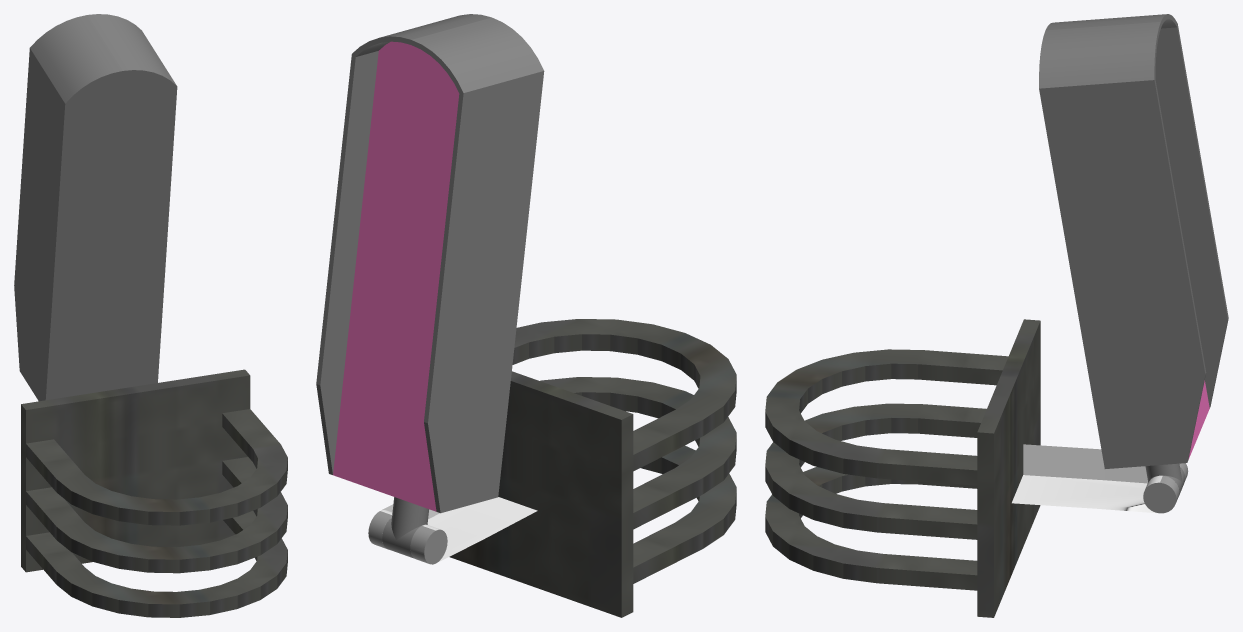
The model's file is sensor-emissor.glb.
3 renders of one model, left to right at view 1: azimuth 30°, elevation 25°; view 2: azimuth 150°, elevation 25°; view 3: azimuth 270°, elevation 25°, orthographic. The views are drawn at different scales.
Parts seen in each view (by area): view 1: Componente_3_1, Componente_1_1, Al_a1, Al_a3, Al_a2; view 2: Componente_3_1, Componente_1_1, Al_a1, Al_a3, Al_a2, Componente_4_1; view 3: Componente_3_1, Al_a1, Componente_1_1, Al_a3, Al_a2, Componente_4_1.
Part boxes in pixels (left/top/right/bottom): Componente_3_1: left=14, top=14, right=177, bottom=401; Componente_1_1: left=21, top=369, right=250, bottom=572; Al_a1: left=26, top=409, right=287, bottom=525; Al_a3: left=26, top=457, right=287, bottom=573; Al_a2: left=26, top=511, right=287, bottom=617; Componente_3_1: left=316, top=14, right=544, bottom=558; Componente_1_1: left=449, top=371, right=633, bottom=617; Al_a1: left=512, top=319, right=736, bottom=471; Al_a3: left=540, top=377, right=736, bottom=529; Al_a2: left=633, top=445, right=736, bottom=583; Componente_4_1: left=368, top=497, right=537, bottom=564; Componente_3_1: left=1039, top=14, right=1228, bottom=495; Al_a1: left=765, top=349, right=1008, bottom=485; Componente_1_1: left=977, top=319, right=1040, bottom=617; Al_a3: left=765, top=403, right=986, bottom=539; Al_a2: left=765, top=467, right=977, bottom=590; Componente_4_1: left=1012, top=444, right=1188, bottom=513.
Size of the model in its own units: 0.1705 by 0.3575 by 0.2733.
Materials: 5 (1 with a texture image).
